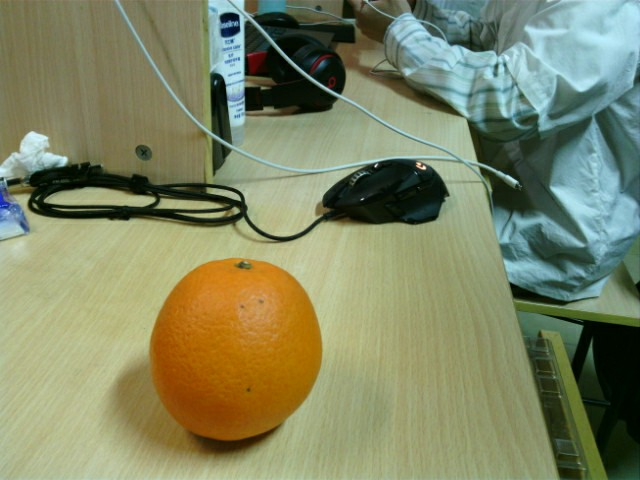normal_orange: (150, 258, 324, 438)
